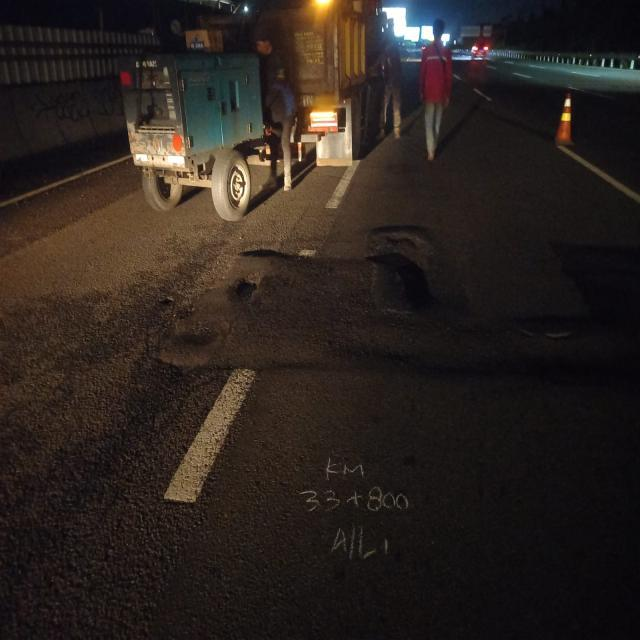Buraco: (224, 269, 264, 306), (375, 230, 427, 252), (233, 245, 294, 261), (152, 294, 178, 310)
